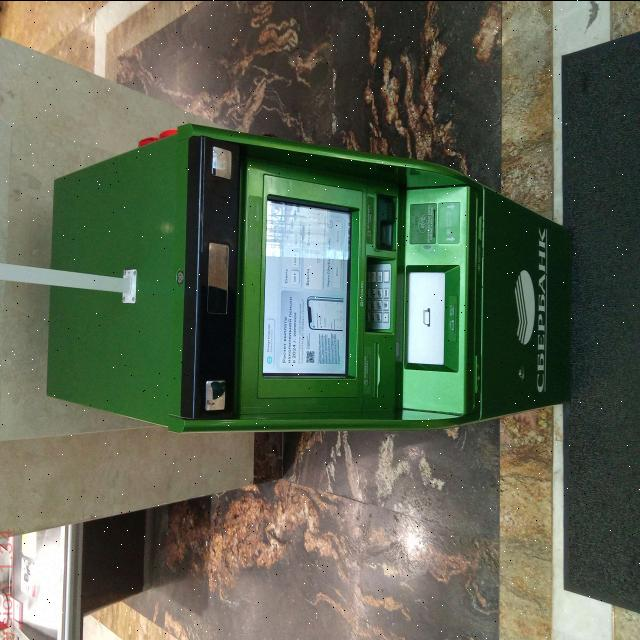bank: (46, 125, 572, 434)
